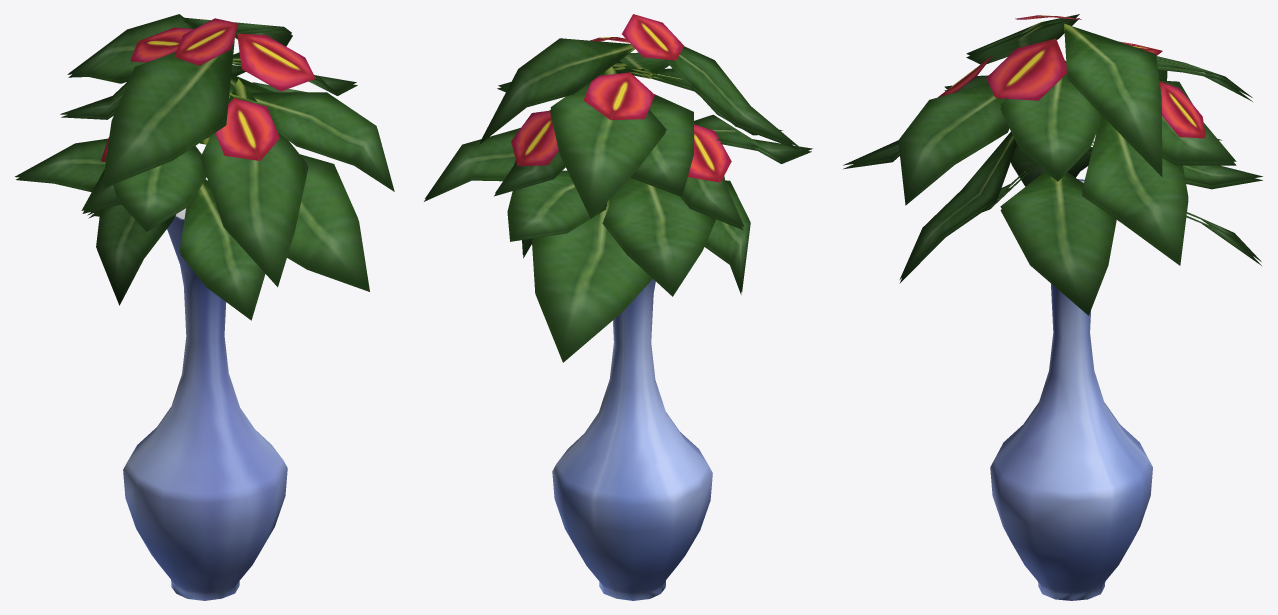
Rendered from TouKuiZheJia_01_huaping_02_uv2.fbx.
The picture shows the model from 3 angles, left to right: view 1: azimuth 30°, elevation 25°; view 2: azimuth 150°, elevation 25°; view 3: azimuth 270°, elevation 25°; orthographic projection. The views are drawn at different scales.
Visible parts, largest first — view 1: TouKuiZheJia_huaping_02; view 2: TouKuiZheJia_huaping_02; view 3: TouKuiZheJia_huaping_02.
Part boxes in pixels (x1=…): TouKuiZheJia_huaping_02: x1=15, y1=14, x2=394, y2=600; TouKuiZheJia_huaping_02: x1=424, y1=14, x2=812, y2=600; TouKuiZheJia_huaping_02: x1=843, y1=14, x2=1262, y2=600.
Size of the model in its own units: 240 by 439 by 290.
